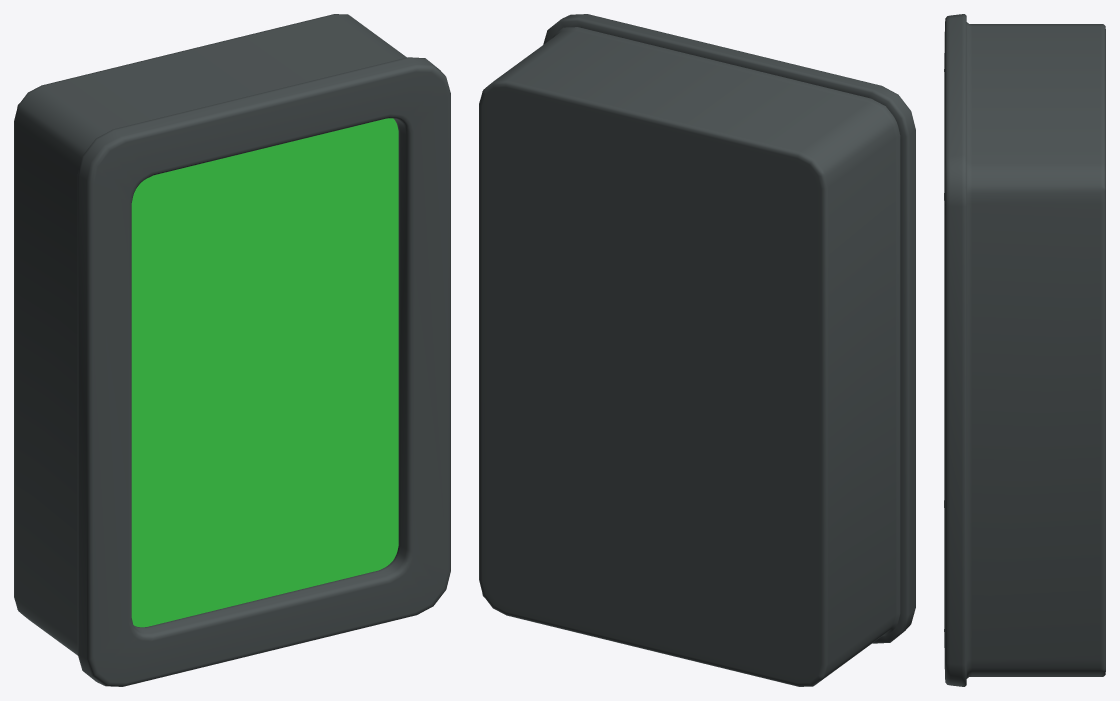
3 views of the same model, side by side, from view 1: azimuth 30°, elevation 25°; view 2: azimuth 150°, elevation 25°; view 3: azimuth 270°, elevation 25° (orthographic). The views are drawn at different scales.
Visible parts, largest first — view 1: d1_low, d1_mattscreen; view 2: d1_low; view 3: d1_low.
Boxes of the visible parts, x1,y1,x2,y2 form: d1_low: (14, 14, 450, 686); d1_mattscreen: (131, 118, 398, 627); d1_low: (479, 14, 915, 686); d1_low: (944, 14, 1105, 686).
Bounding box in the file's own units: 0.789 × 1.14 × 0.3156.
Materials: 2 (1 with a texture image).
